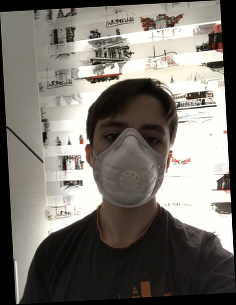with_mask: (91, 109, 170, 208)
